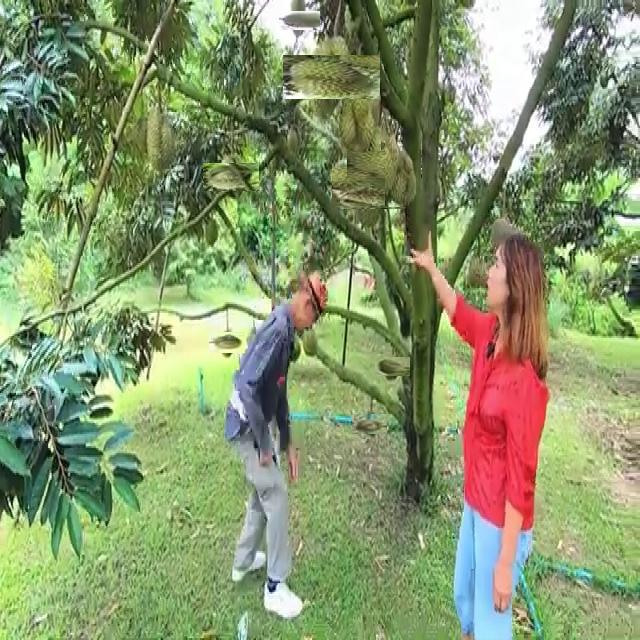durian: (296, 42, 368, 113), (340, 159, 398, 218), (356, 131, 412, 188), (339, 77, 381, 151), (385, 136, 421, 207), (143, 110, 178, 174), (210, 156, 253, 199), (284, 5, 314, 36), (213, 328, 242, 357), (356, 410, 384, 437), (378, 353, 406, 380)
